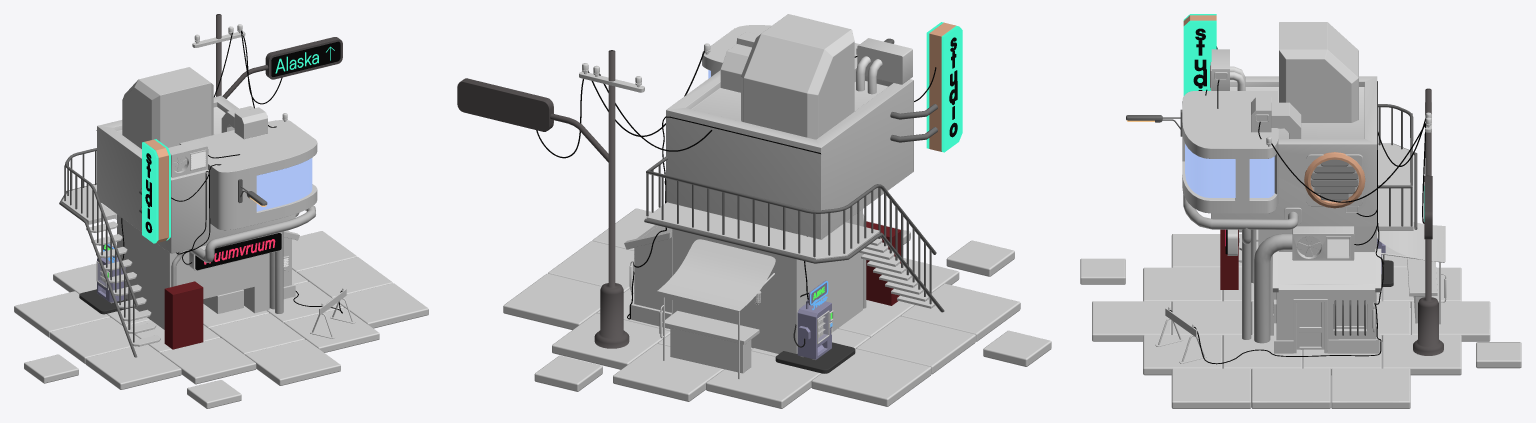
The model's file is building-unwraping-merged-2.glb.
3 renders of one model, left to right at view 1: azimuth 30°, elevation 25°; view 2: azimuth 150°, elevation 25°; view 3: azimuth 270°, elevation 25°, orthographic. The views are drawn at different scales.
Parts seen in each view (by area): view 1: Plane.058, Plane.002, Cube.001, Plane.019, Plane, Plane.014, Cube.008, Plane.044, Plane.020, Vert.002, Cube.006, Cube.007 (+18 smaller); view 2: Plane.058, Plane.002, Plane.019, Plane, Plane.042, Plane.018, Circle.011, Cube.004, Plane.004, Plane.038, Plane.043, Cube.006 (+15 smaller); view 3: Plane.058, Plane.002, Cube.001, Plane.019, Plane.004, Cube.008, Plane.018, Circle.011, Vert, Cube.003, Plane.042, Plane.032 (+24 smaller).
Boxes of the visible parts, <box> form: Plane.058: <box>14,231,428,408</box>; Plane.002: <box>97,95,295,253</box>; Cube.001: <box>179,120,317,230</box>; Plane.019: <box>122,67,213,148</box>; Plane: <box>117,214,269,329</box>; Plane.014: <box>164,281,203,349</box>; Cube.008: <box>256,158,312,211</box>; Plane.044: <box>187,257,254,298</box>; Plane.020: <box>86,221,160,346</box>; Vert.002: <box>188,205,315,262</box>; Cube.006: <box>142,142,158,243</box>; Cube.007: <box>271,41,340,76</box>; Plane.058: <box>503,208,1051,408</box>; Plane.002: <box>666,70,913,239</box>; Plane.019: <box>741,14,854,139</box>; Plane: <box>672,203,862,353</box>; Plane.042: <box>657,239,775,315</box>; Plane.018: <box>646,202,879,263</box>; Circle.011: <box>594,50,629,348</box>; Cube.004: <box>457,78,553,131</box>; Plane.004: <box>634,225,672,312</box>; Plane.038: <box>646,165,873,257</box>; Plane.043: <box>670,328,751,373</box>; Cube.006: <box>941,25,962,152</box>; Plane.058: <box>1080,229,1521,408</box>; Plane.002: <box>1211,76,1377,226</box>; Cube.001: <box>1182,91,1278,213</box>; Plane.019: <box>1279,22,1358,122</box>; Plane.004: <box>1276,252,1376,353</box>; Cube.008: <box>1185,144,1274,197</box>; Plane.018: <box>1377,144,1413,230</box>; Circle.011: <box>1413,88,1443,355</box>; Vert: <box>1254,233,1292,343</box>; Cube.003: <box>1183,20,1216,96</box>; Plane.042: <box>1377,222,1445,261</box>; Plane.032: <box>1311,159,1357,200</box>.
Size of what is drawn, in the model's own units: 36.28 by 21.5 by 32.15.
